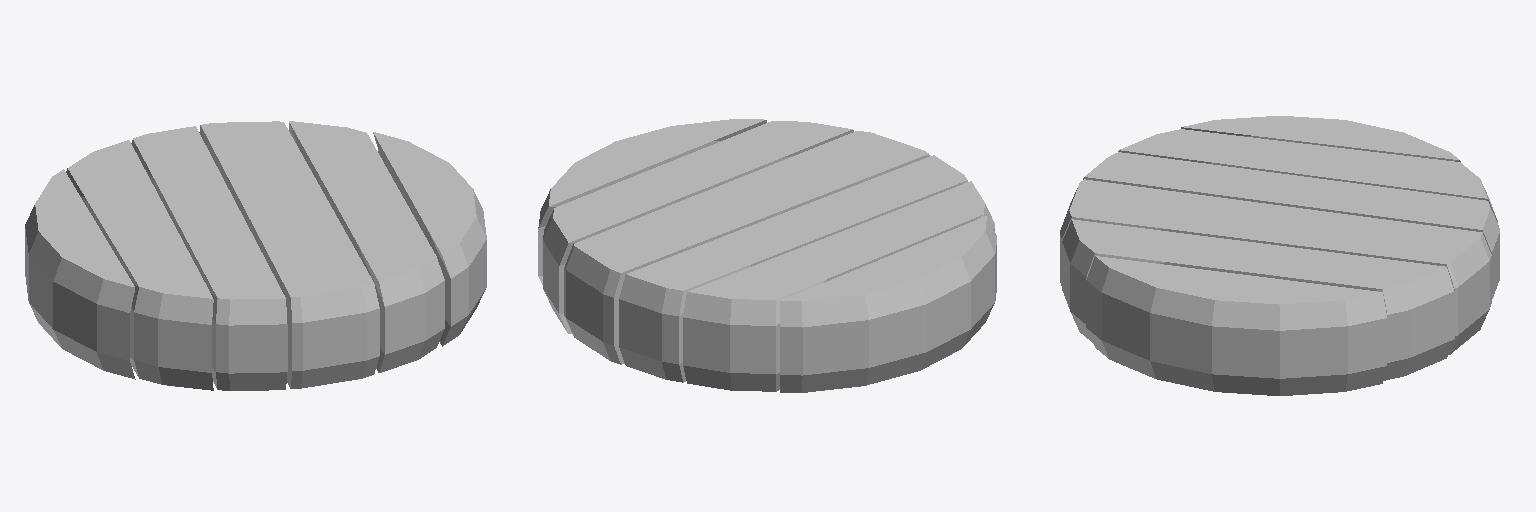
The model's file is tablev1.obj.
3 views of the same model, side by side, from view 1: azimuth 30°, elevation 25°; view 2: azimuth 150°, elevation 25°; view 3: azimuth 270°, elevation 25° (orthographic).
Parts seen in each view (by area): view 1: Cylinder.005; view 2: Cylinder.005; view 3: Cylinder.005.
Part boxes in pixels (left/top/right/bottom): Cylinder.005: left=25, top=121, right=486, bottom=390; Cylinder.005: left=538, top=119, right=996, bottom=392; Cylinder.005: left=1060, top=116, right=1499, bottom=395.
Bounding box in the file's own units: 2.22 × 0.4806 × 2.09.